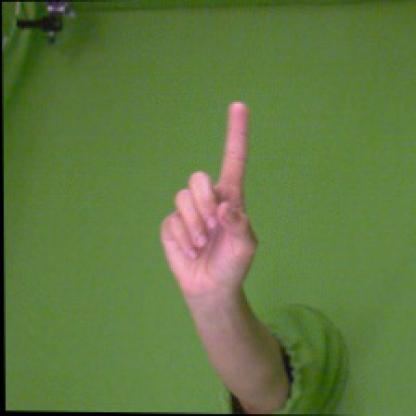Hand: (158, 100, 258, 302)
